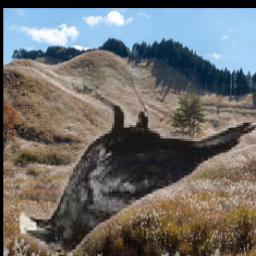Crow: (19, 68, 256, 255)
